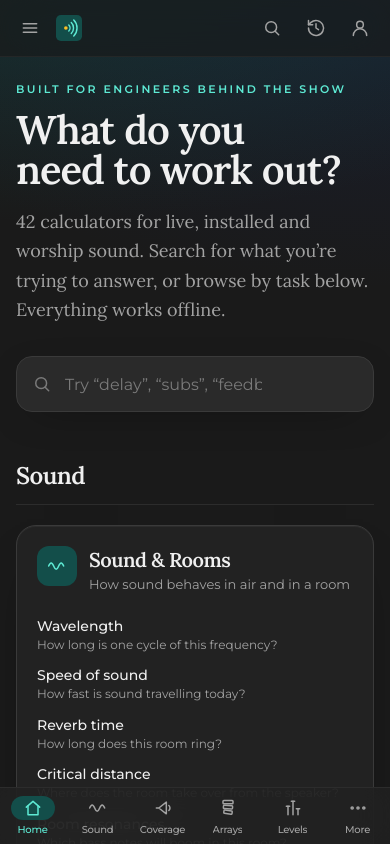
it: App › opens the page list from the hamburger on phones and hides Reference everywhere
The image size is (390, 844).
Click the button named "Open navigation": (30,28) [8, 6, 52, 50]
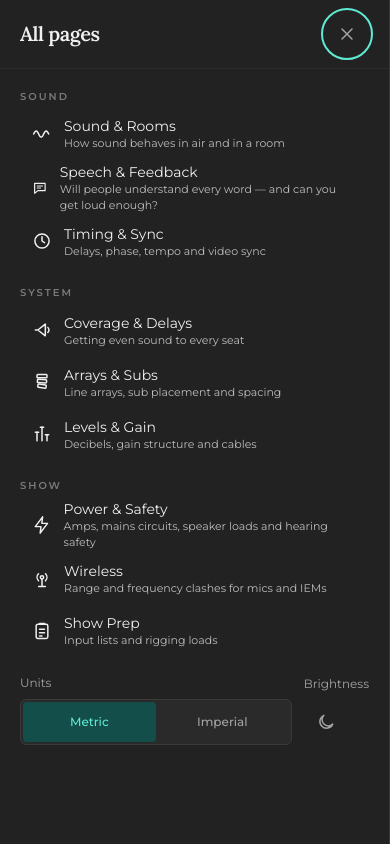
Check: the button "Wireless Range and frequency clashes for mics and IEMs" is shown, box [20, 555, 369, 603]
